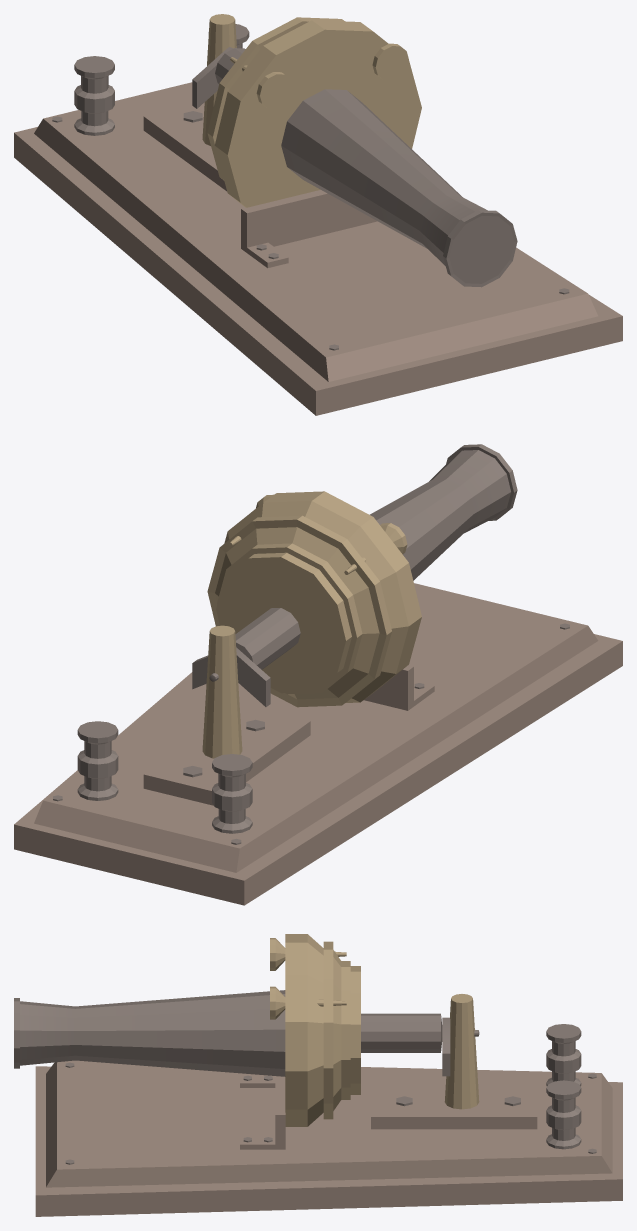
The model's file is Telefono.fbx.
3 renders of one model, top to bottom at view 1: azimuth 30°, elevation 25°; view 2: azimuth 150°, elevation 25°; view 3: azimuth 270°, elevation 25°, orthographic. The views are drawn at different scales.
Visible parts, largest first — view 1: pCube1, pCylinder6, pCylinder3, pCube3, pCube2, pCylinder2, pCylinder5, pCylinder13, pCylinder14, pCube4; view 2: pCube1, pCylinder3, pCylinder6, pCube2, pCylinder5, pCylinder1, pCylinder2, pCylinder4, pCube4, pCube3; view 3: pCube1, pCylinder6, pCylinder3, pCube2, pCylinder4, pCylinder5, pCylinder1, pCylinder2, pCube3, pCylinder14, pCube4, pCylinder13.
Boxes of the visible parts, bbox=[...] form: pCube1: bbox=[14, 82, 622, 415]; pCylinder6: bbox=[281, 89, 517, 287]; pCylinder3: bbox=[207, 17, 421, 207]; pCube3: bbox=[241, 190, 377, 268]; pCube2: bbox=[143, 102, 226, 191]; pCylinder2: bbox=[74, 56, 114, 135]; pCylinder5: bbox=[202, 14, 236, 145]; pCylinder13: bbox=[230, 57, 292, 108]; pCylinder14: bbox=[372, 43, 408, 80]; pCube4: bbox=[192, 47, 233, 108]; pCube1: bbox=[14, 583, 622, 905]; pCylinder3: bbox=[207, 491, 421, 707]; pCylinder6: bbox=[370, 444, 517, 580]; pCube2: bbox=[143, 704, 310, 805]; pCylinder5: bbox=[202, 625, 242, 758]; pCylinder1: bbox=[77, 721, 118, 800]; pCylinder2: bbox=[212, 754, 252, 833]; pCylinder4: bbox=[209, 608, 300, 681]; pCube4: bbox=[192, 647, 270, 706]; pCube3: bbox=[364, 665, 434, 710]; pCube1: bbox=[35, 1060, 622, 1216]; pCylinder6: bbox=[14, 990, 285, 1076]; pCylinder3: bbox=[285, 934, 360, 1126]; pCube2: bbox=[371, 1087, 537, 1129]; pCylinder4: bbox=[361, 1013, 479, 1052]; pCylinder5: bbox=[444, 994, 479, 1109]; pCylinder1: bbox=[546, 1080, 581, 1149]; pCylinder2: bbox=[546, 1024, 581, 1086]; pCube3: bbox=[240, 1074, 285, 1149]; pCylinder14: bbox=[270, 986, 346, 1019]; pCube4: bbox=[442, 1017, 450, 1076]; pCylinder13: bbox=[270, 938, 346, 970].
Size of the model in its own units: 2.8 by 2.12 by 5.58.
